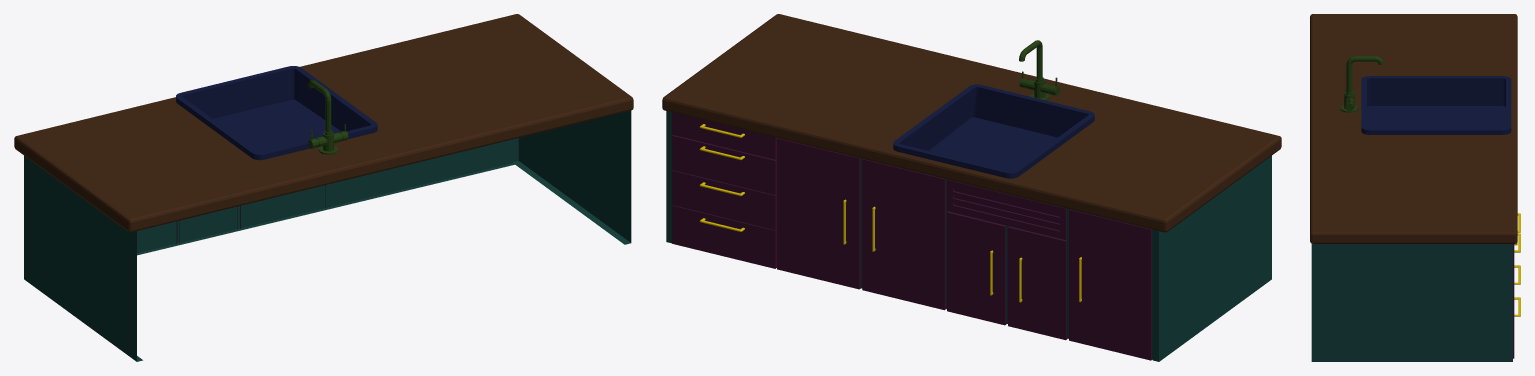
The model's file is SM_Table_Evier.fbx.
The picture shows the model from 3 angles, left to right: view 1: azimuth 30°, elevation 25°; view 2: azimuth 150°, elevation 25°; view 3: azimuth 270°, elevation 25°; orthographic projection. The views are drawn at different scales.
Parts seen in each view (by area): view 1: Table2; view 2: Table2; view 3: Table2.
Part boxes in pixels (box(x1,y1,x2,y2)): Table2: box(14, 14, 633, 361); Table2: box(662, 14, 1281, 361); Table2: box(1310, 14, 1520, 361).
Bounding box in the file's own units: 303 × 118 × 123.
